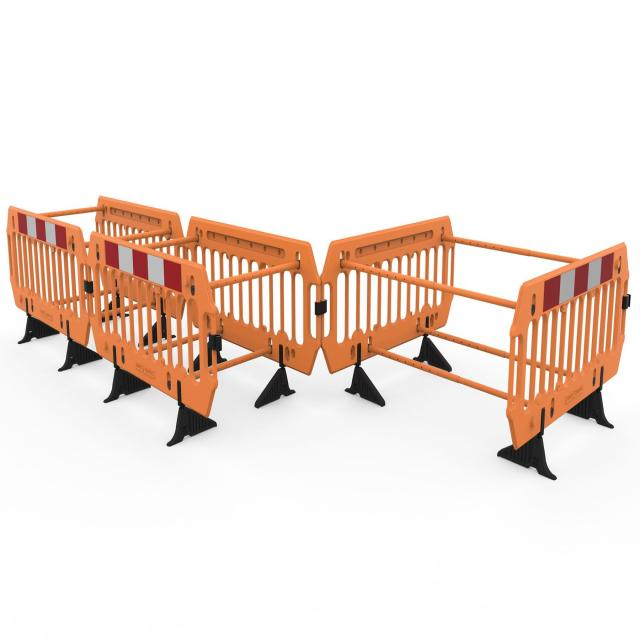cone: (6, 195, 630, 479)
